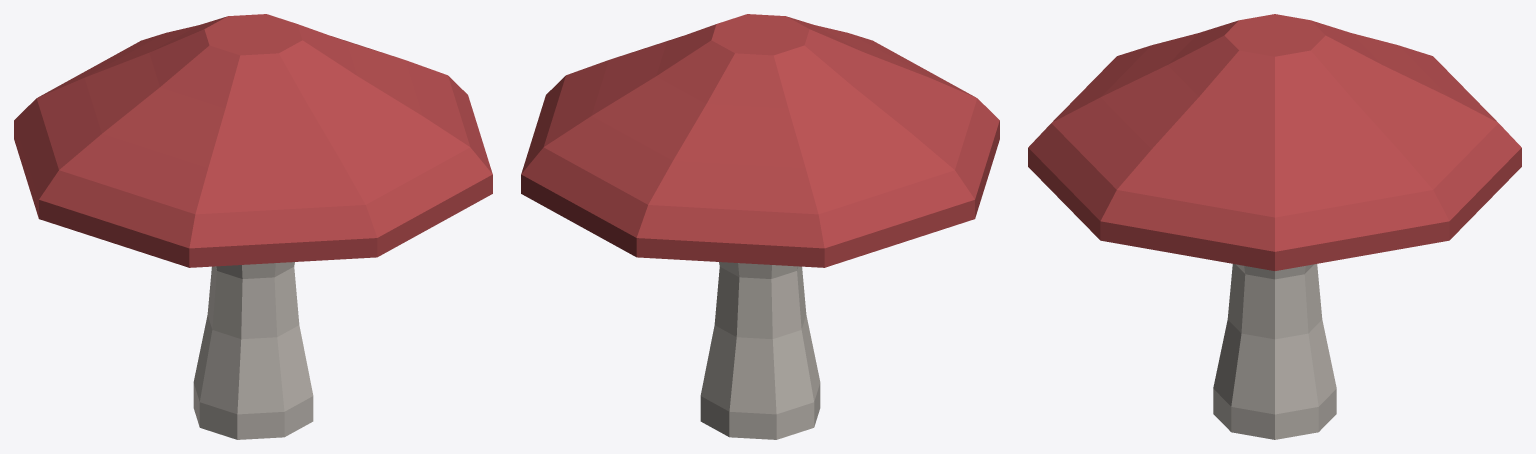
Rendered from cogumelo.fbx.
3 renders of one model, left to right at view 1: azimuth 30°, elevation 25°; view 2: azimuth 150°, elevation 25°; view 3: azimuth 270°, elevation 25°, orthographic.
Visible parts, largest first — view 1: Circle; view 2: Circle; view 3: Circle.
Boxes of the visible parts, left/top/right/bottom form: Circle: left=14, top=14, right=492, bottom=439; Circle: left=521, top=14, right=999, bottom=439; Circle: left=1028, top=14, right=1521, bottom=439.
Bounding box in the file's own units: 200 × 169 × 200.
